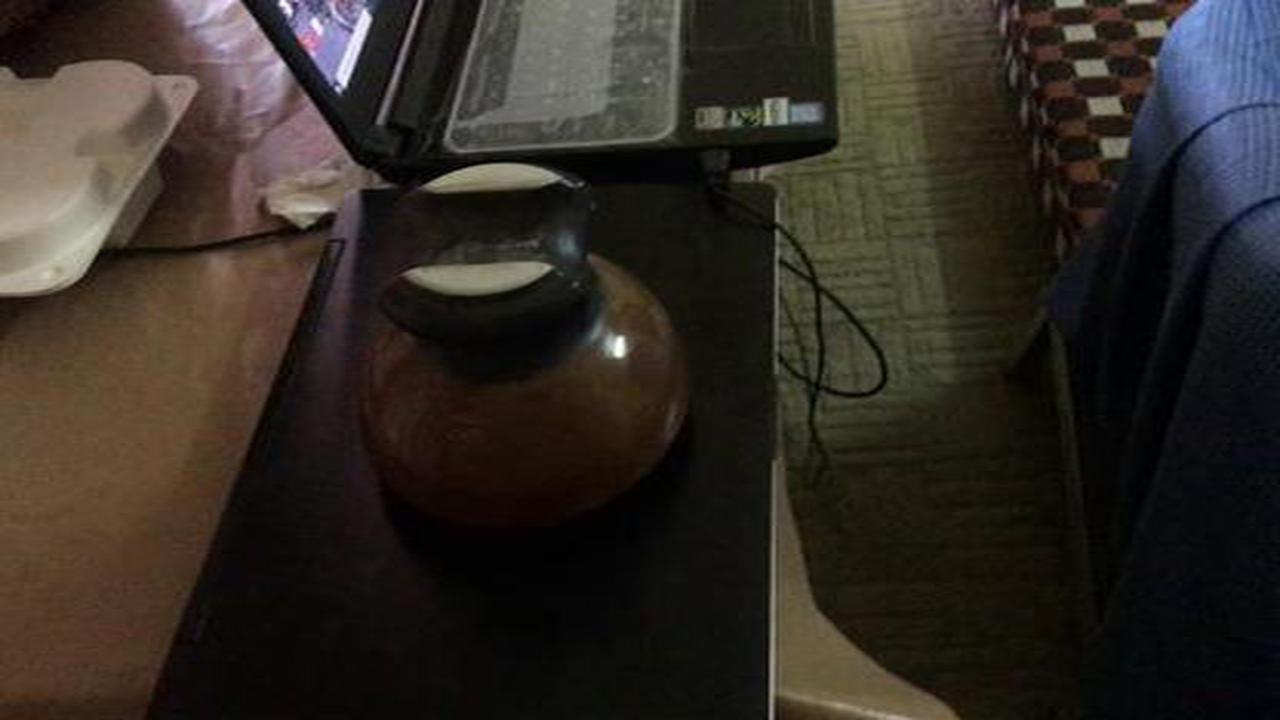insulator_pin: (330, 145, 717, 563)
